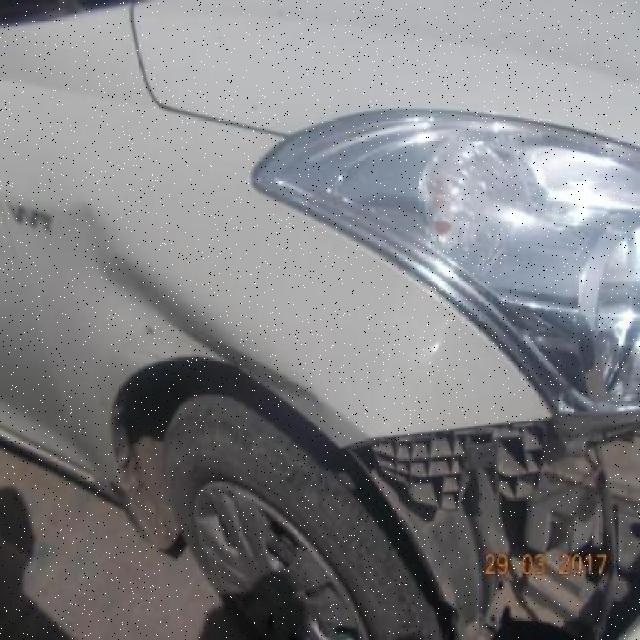damage: (333, 408, 640, 640), (51, 199, 258, 365)
